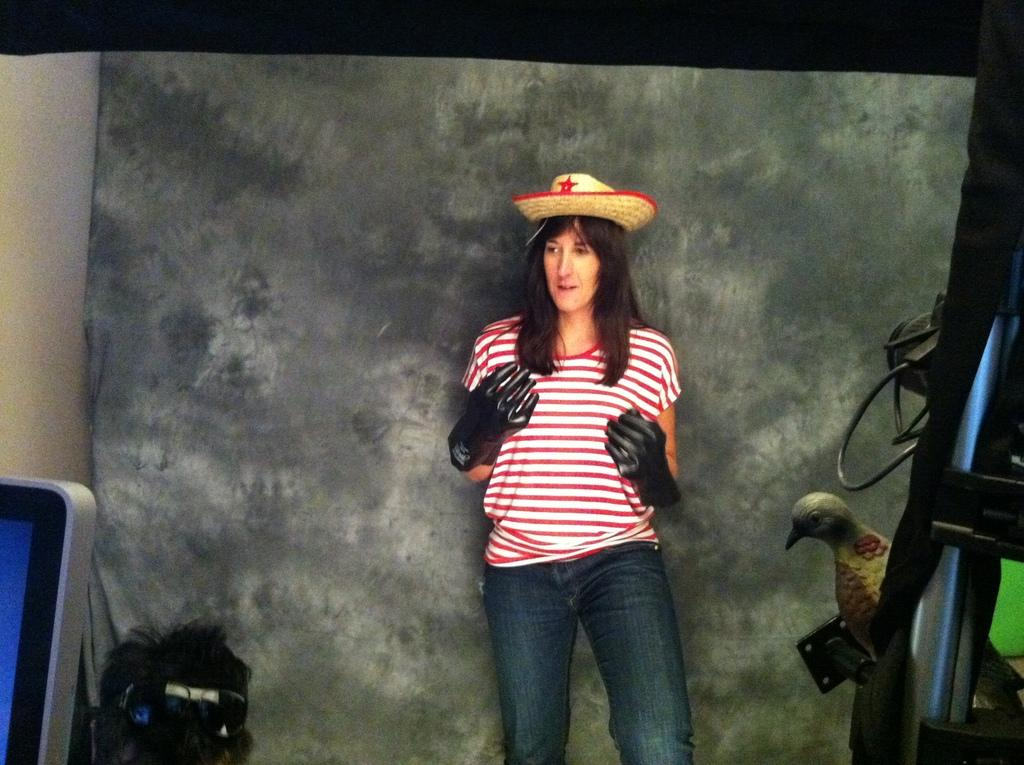Hat: (512, 173, 660, 233)
